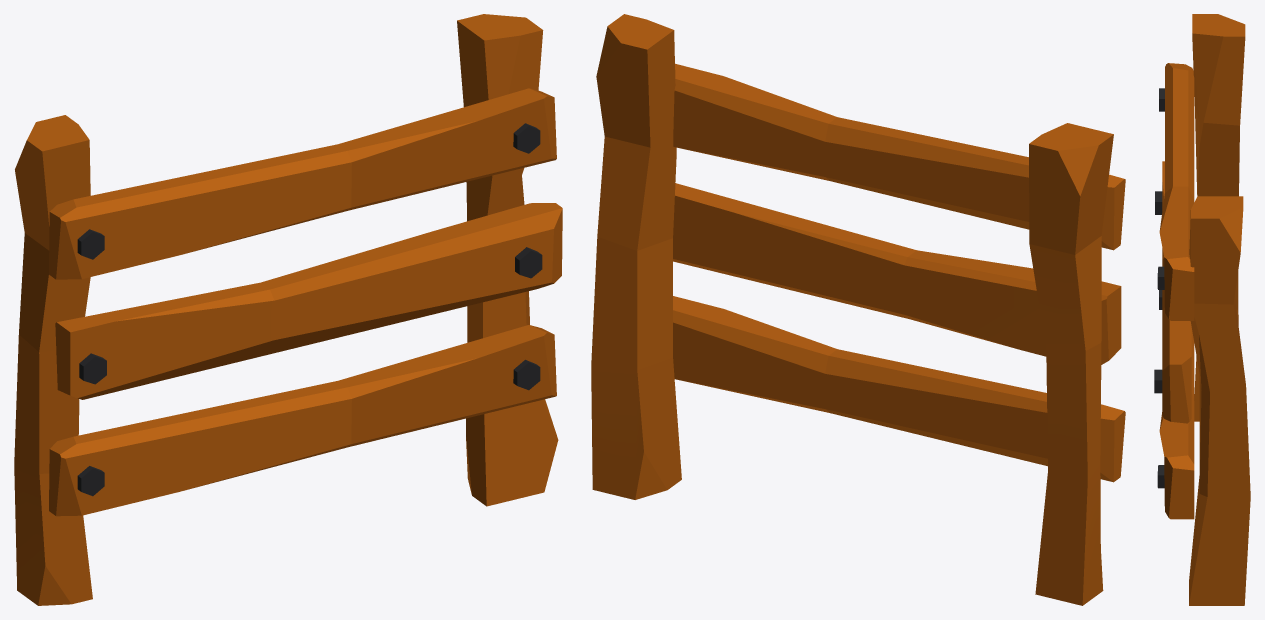
File: Fence_2_3.fbx
The picture shows the model from 3 angles, left to right: view 1: azimuth 30°, elevation 25°; view 2: azimuth 150°, elevation 25°; view 3: azimuth 270°, elevation 25°; orthographic projection. The views are drawn at different scales.
Parts seen in each view (by area): view 1: Fence_2_3; view 2: Fence_2_3; view 3: Fence_2_3.
Part boxes in pixels (x1,y1,x2,y2): Fence_2_3: (14, 14, 562, 605); Fence_2_3: (591, 14, 1125, 605); Fence_2_3: (1154, 14, 1250, 605).
Size of the model in its own units: 44.77 by 38.12 by 8.61.
